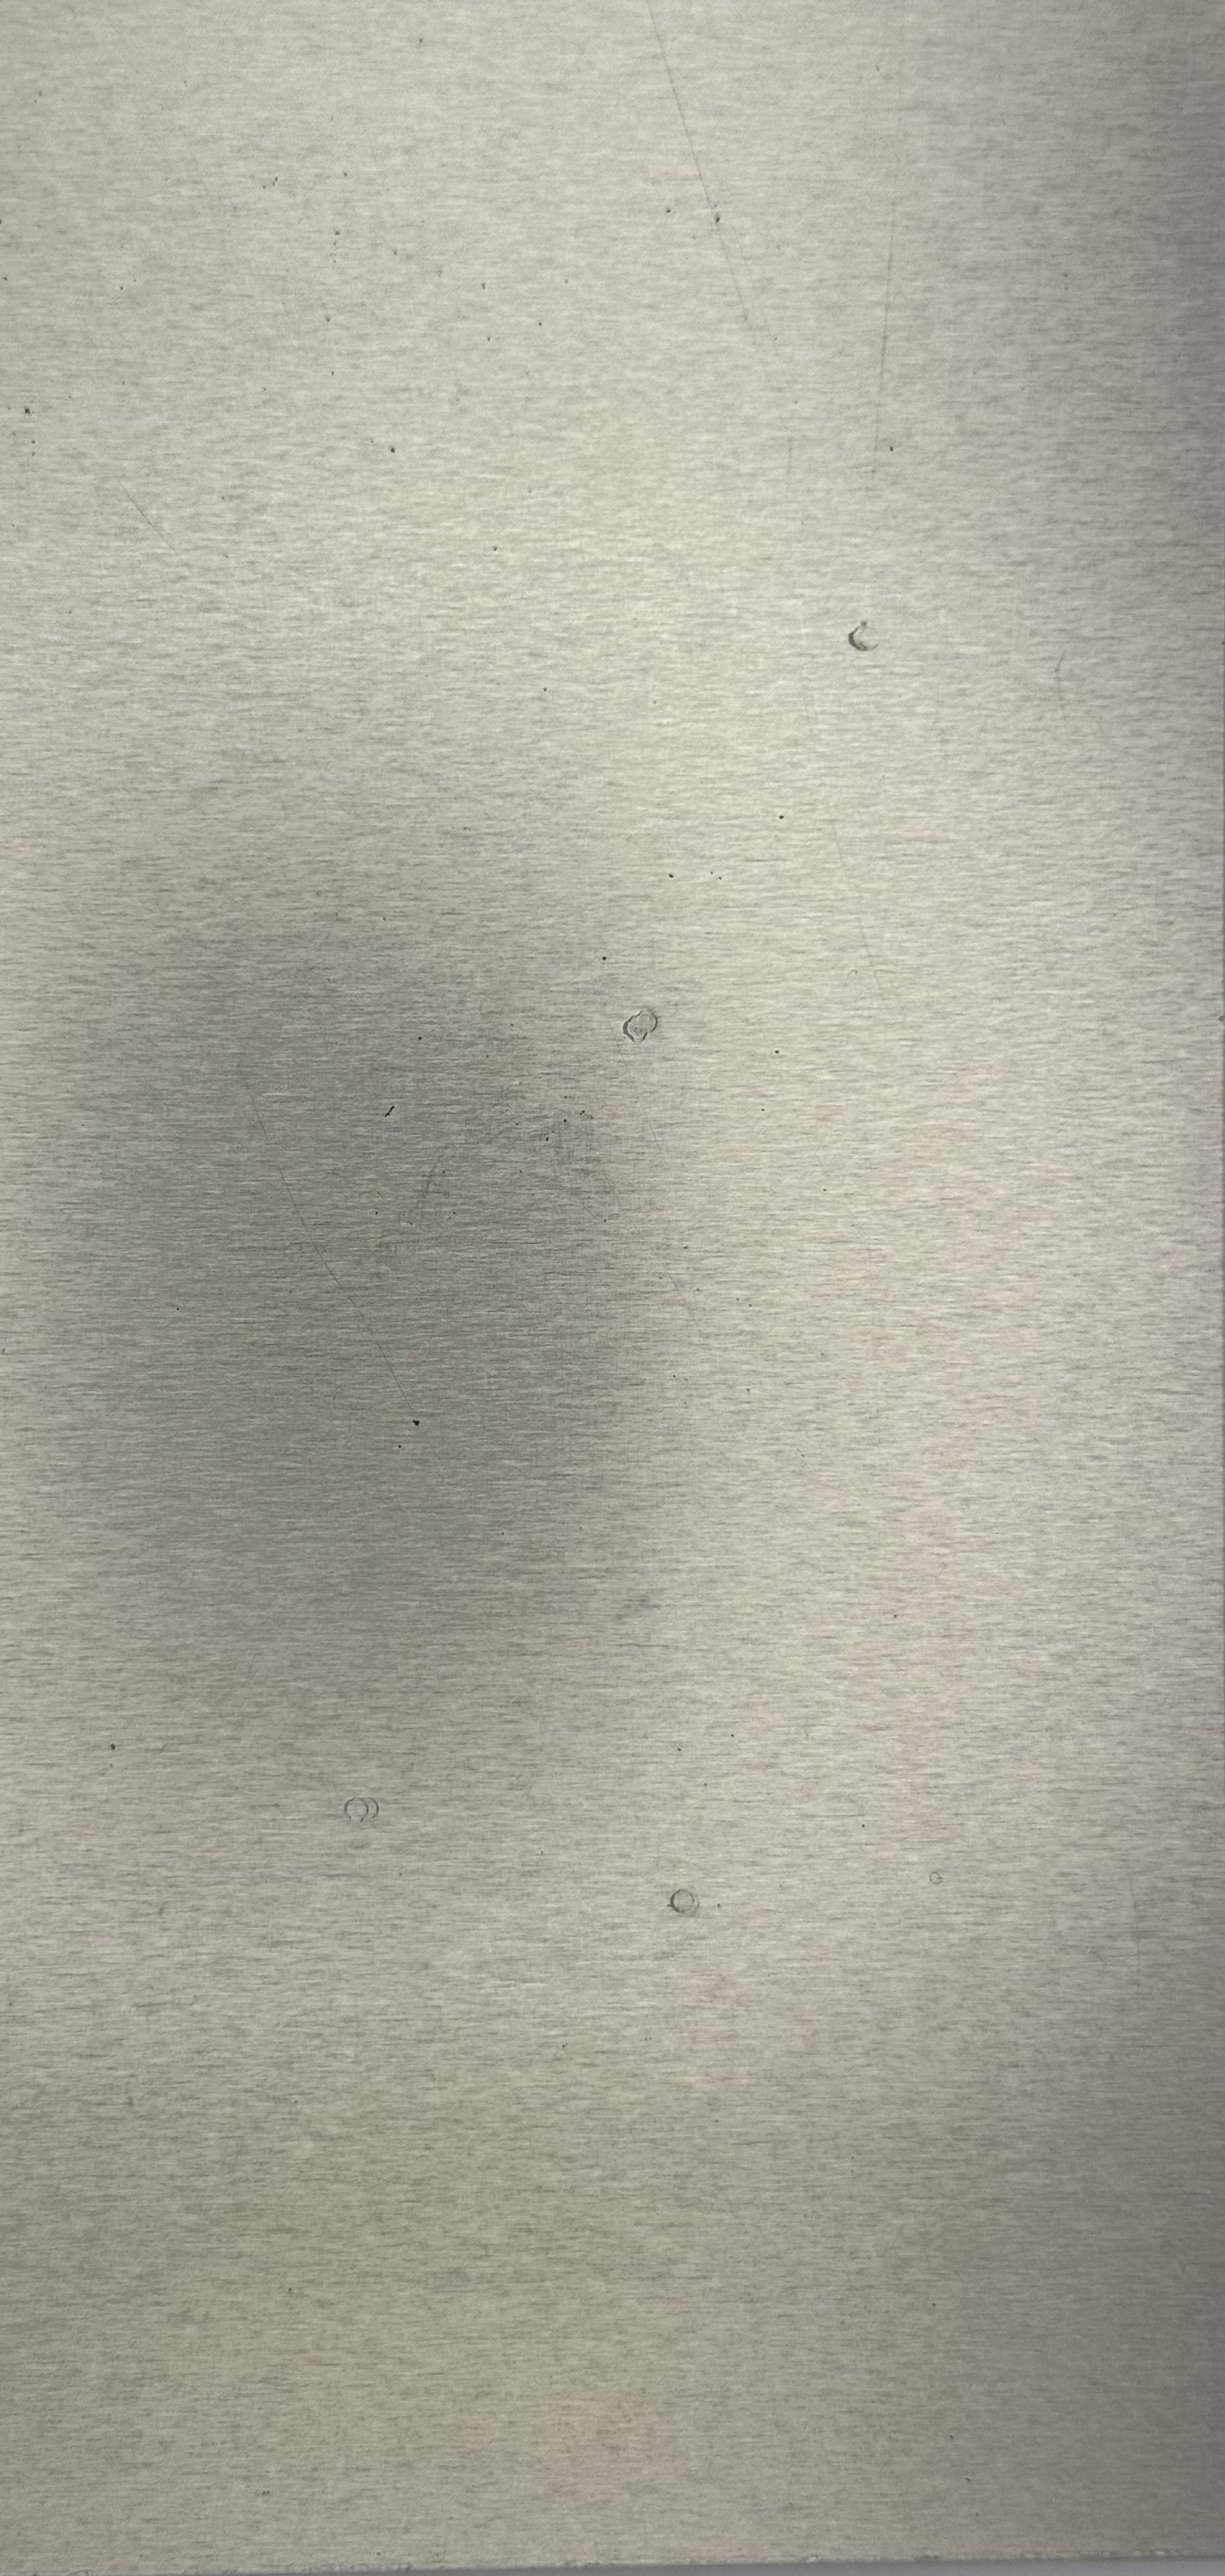Delle: (829, 606, 910, 674), (593, 996, 686, 1053), (322, 1782, 397, 1847), (658, 1876, 721, 1935)
